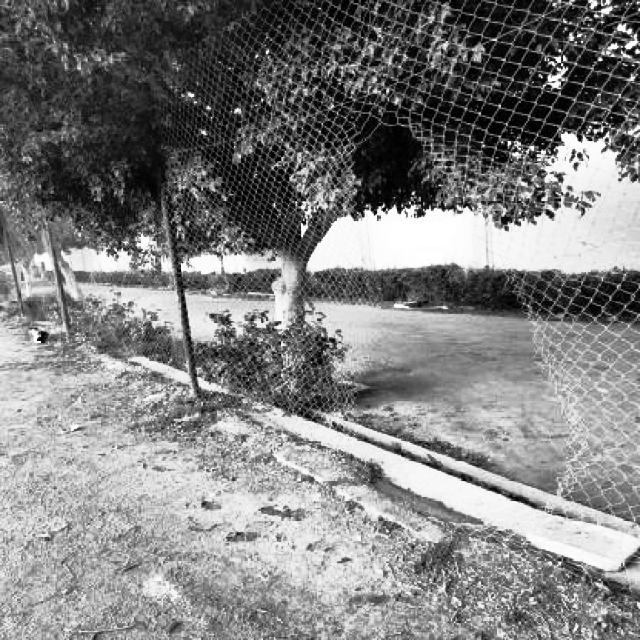anomaly-fence: (242, 50, 611, 539)
